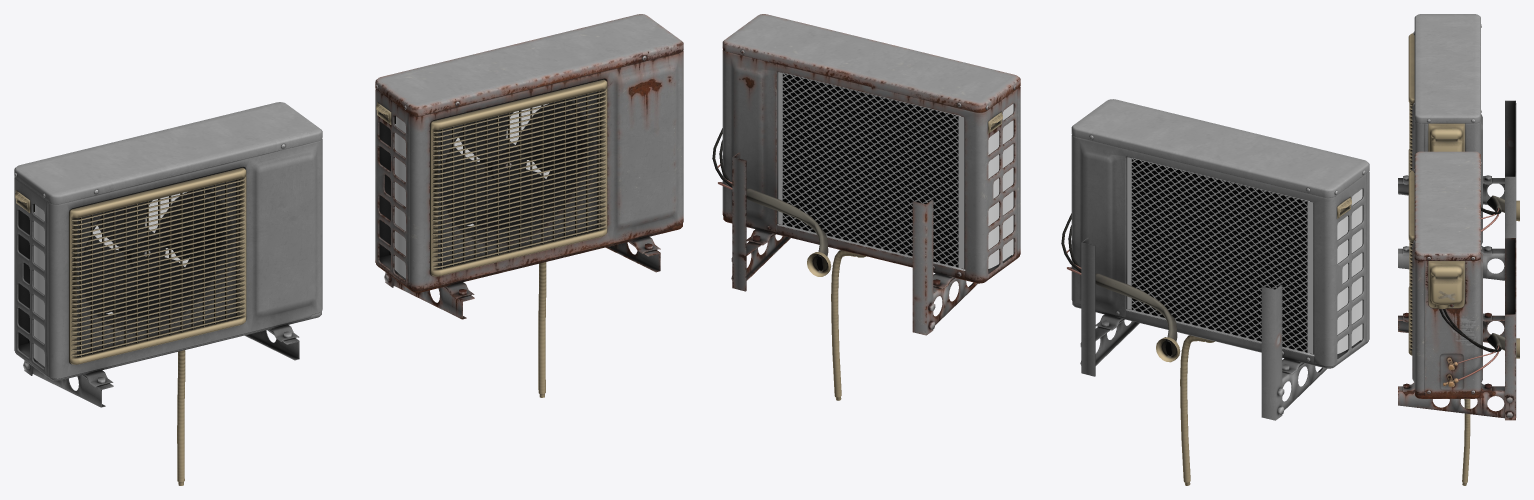
File: sci-fi-aircon-command.collider.glb
The picture shows the model from 3 angles, left to right: view 1: azimuth 30°, elevation 25°; view 2: azimuth 150°, elevation 25°; view 3: azimuth 270°, elevation 25°; orthographic projection. The views are drawn at different scales.
Visible parts, largest first — view 1: exterior_aircon_unit_rusted, exterior_aircon_unit; view 2: exterior_aircon_unit, exterior_aircon_unit_rusted; view 3: exterior_aircon_unit_rusted, exterior_aircon_unit.
Boxes of the visible parts, left/top/right/bottom form: exterior_aircon_unit_rusted: left=375, top=14, right=683, bottom=397; exterior_aircon_unit: left=14, top=102, right=322, bottom=485; exterior_aircon_unit: left=1061, top=99, right=1369, bottom=485; exterior_aircon_unit_rusted: left=712, top=14, right=1020, bottom=400; exterior_aircon_unit_rusted: left=1398, top=151, right=1519, bottom=485; exterior_aircon_unit: left=1398, top=14, right=1519, bottom=280.
Bounding box in the file's own units: 1.8 × 0.9279 × 0.3742.
4 materials, 4 textured.
